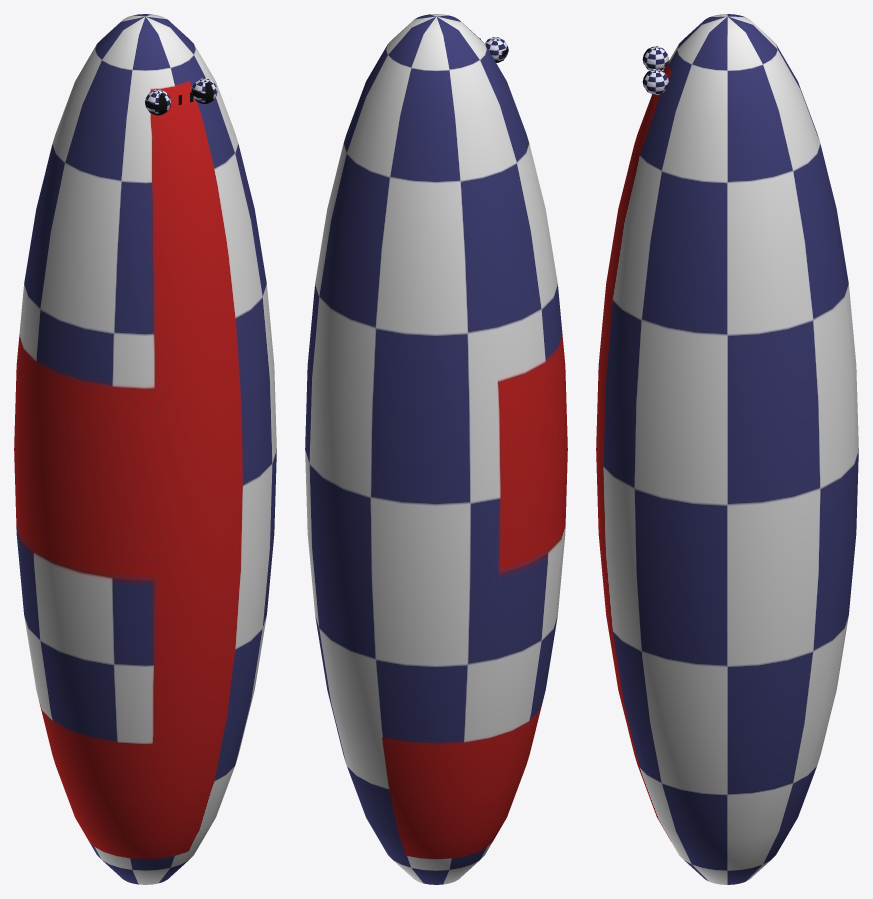
3 renders of one model, left to right at view 1: azimuth 30°, elevation 25°; view 2: azimuth 150°, elevation 25°; view 3: azimuth 270°, elevation 25°, orthographic.
Visible parts, largest first — view 1: body, eyeL, eyeR; view 2: body; view 3: body, eyeR.
Part boxes in pixels (x1,y1,x2,y2): body: [14, 14, 276, 884]; eyeL: [145, 89, 170, 115]; eyeR: [191, 78, 217, 104]; body: [305, 14, 567, 884]; body: [596, 14, 858, 884]; eyeR: [642, 69, 668, 94].
Bounding box in the file's own units: 0.44 × 1.6 × 0.44.
3 materials, 3 textured.
